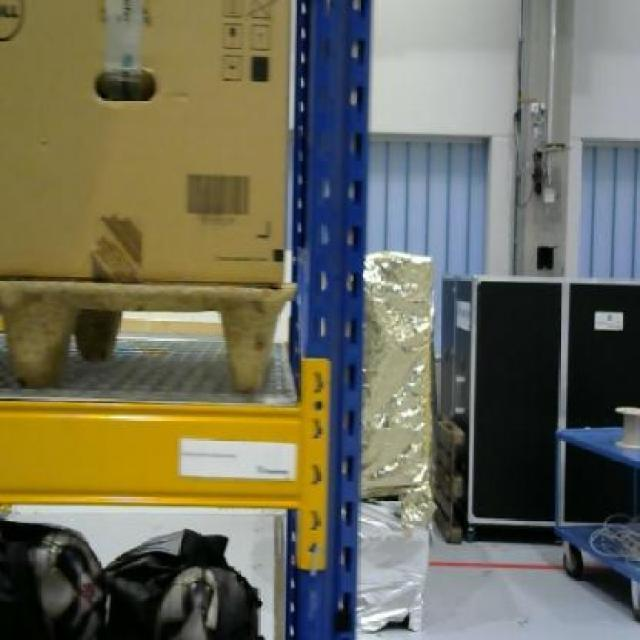box: (0, 0, 286, 286)
